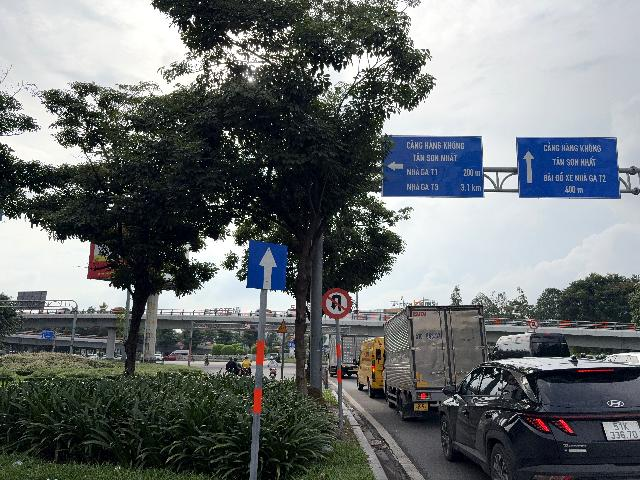cam-quay-dau-xe: (321, 288, 352, 319)
duong-mot-chieu: (246, 240, 288, 291)
